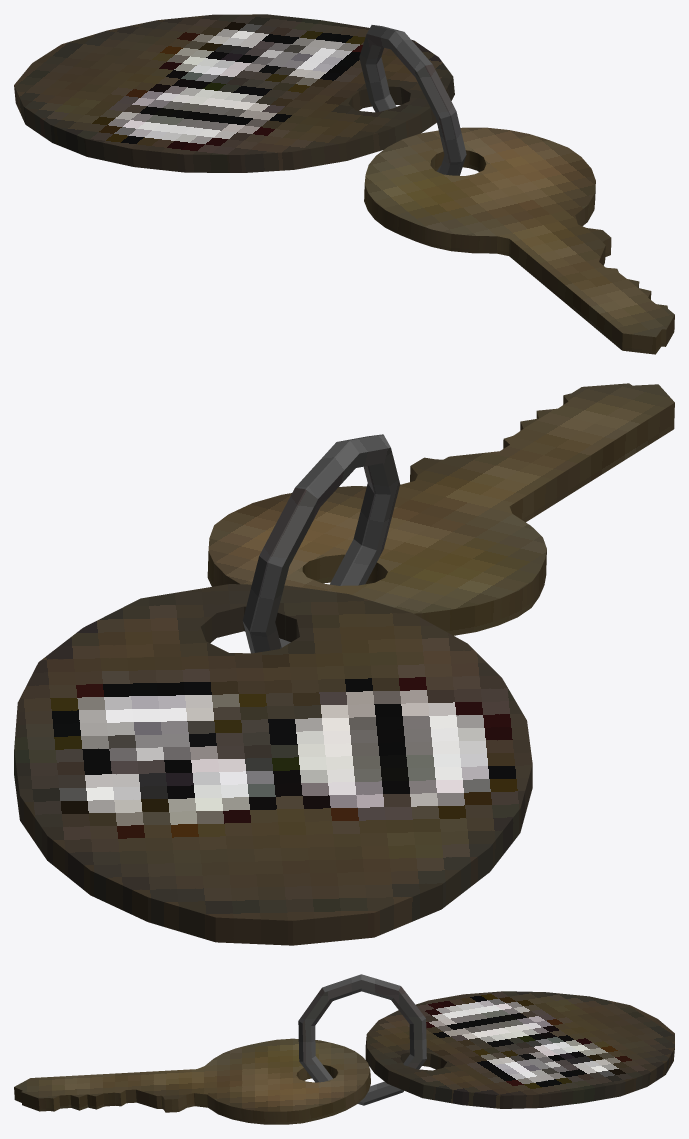
The model's file is key_2.glb.
The picture shows the model from 3 angles, top to bottom: view 1: azimuth 30°, elevation 25°; view 2: azimuth 150°, elevation 25°; view 3: azimuth 270°, elevation 25°; orthographic projection. The views are drawn at different scales.
Parts seen in each view (by area): view 1: key_2; view 2: key_2; view 3: key_2.
Part boxes in pixels (box(x1,y1,x2,y2)): key_2: box(14, 14, 674, 354); key_2: box(14, 383, 674, 945); key_2: box(14, 974, 674, 1124).
Size of the model in its own units: 0.0626 by 0.027 by 0.137.
3 materials, 3 textured.
